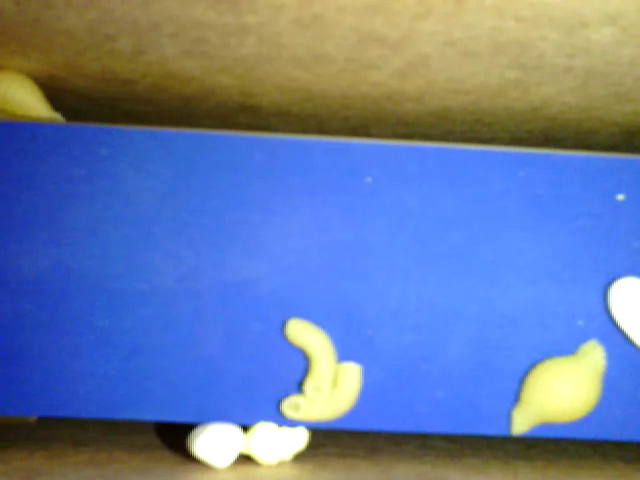elbow: (279, 360, 366, 423), (285, 318, 338, 398)
shell: (512, 337, 611, 436), (3, 68, 70, 123)
